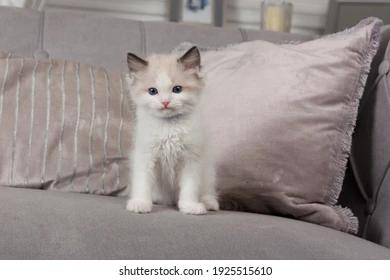ragdoll: (117, 36, 211, 131)
